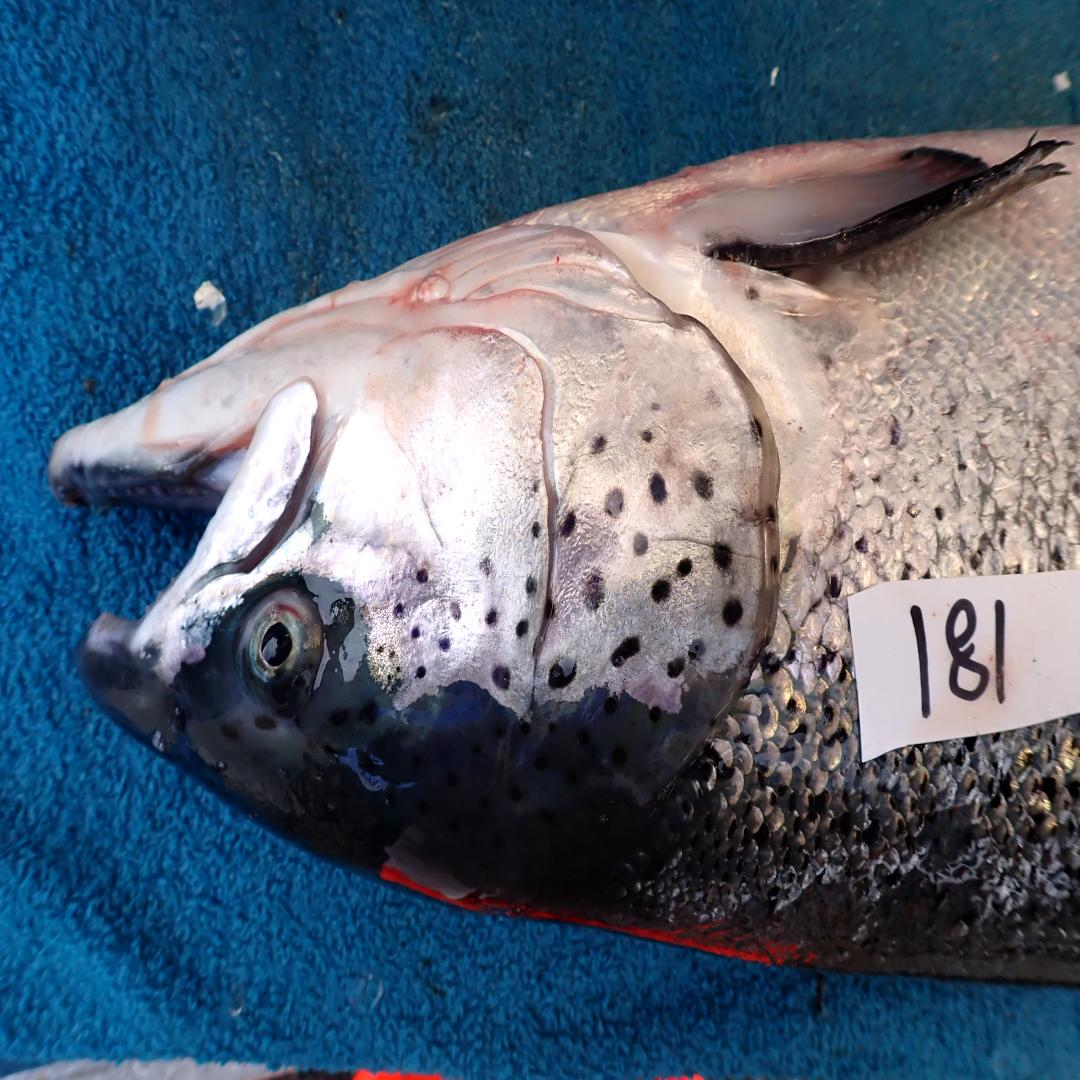roi: (320, 214, 775, 716)
